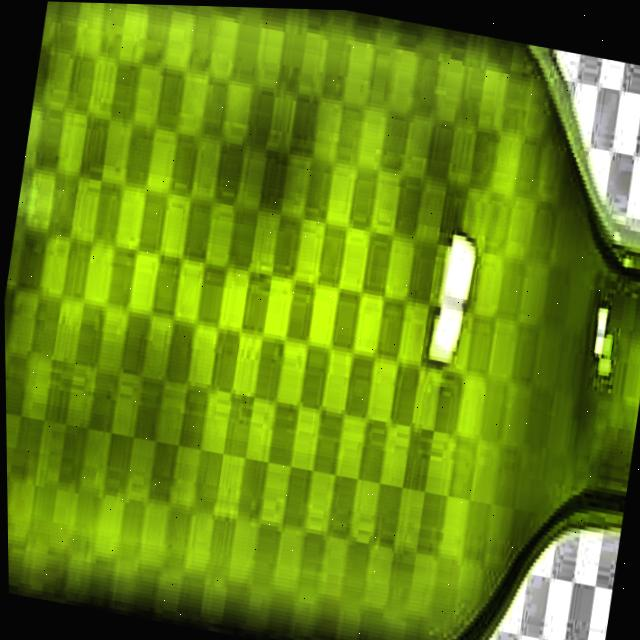glass: (3, 1, 640, 640)
